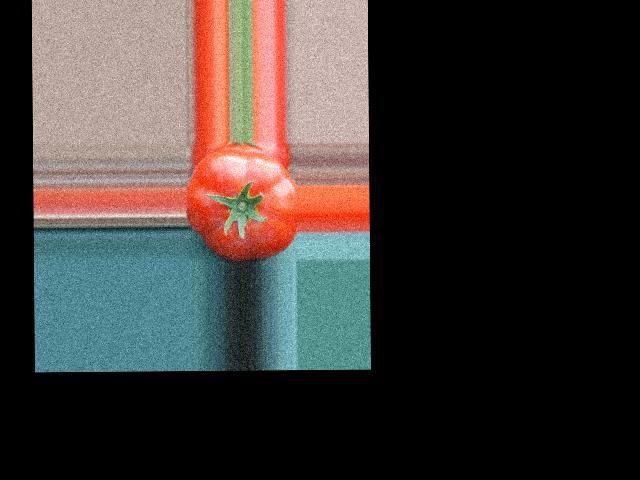tomato: (184, 148, 297, 261)
